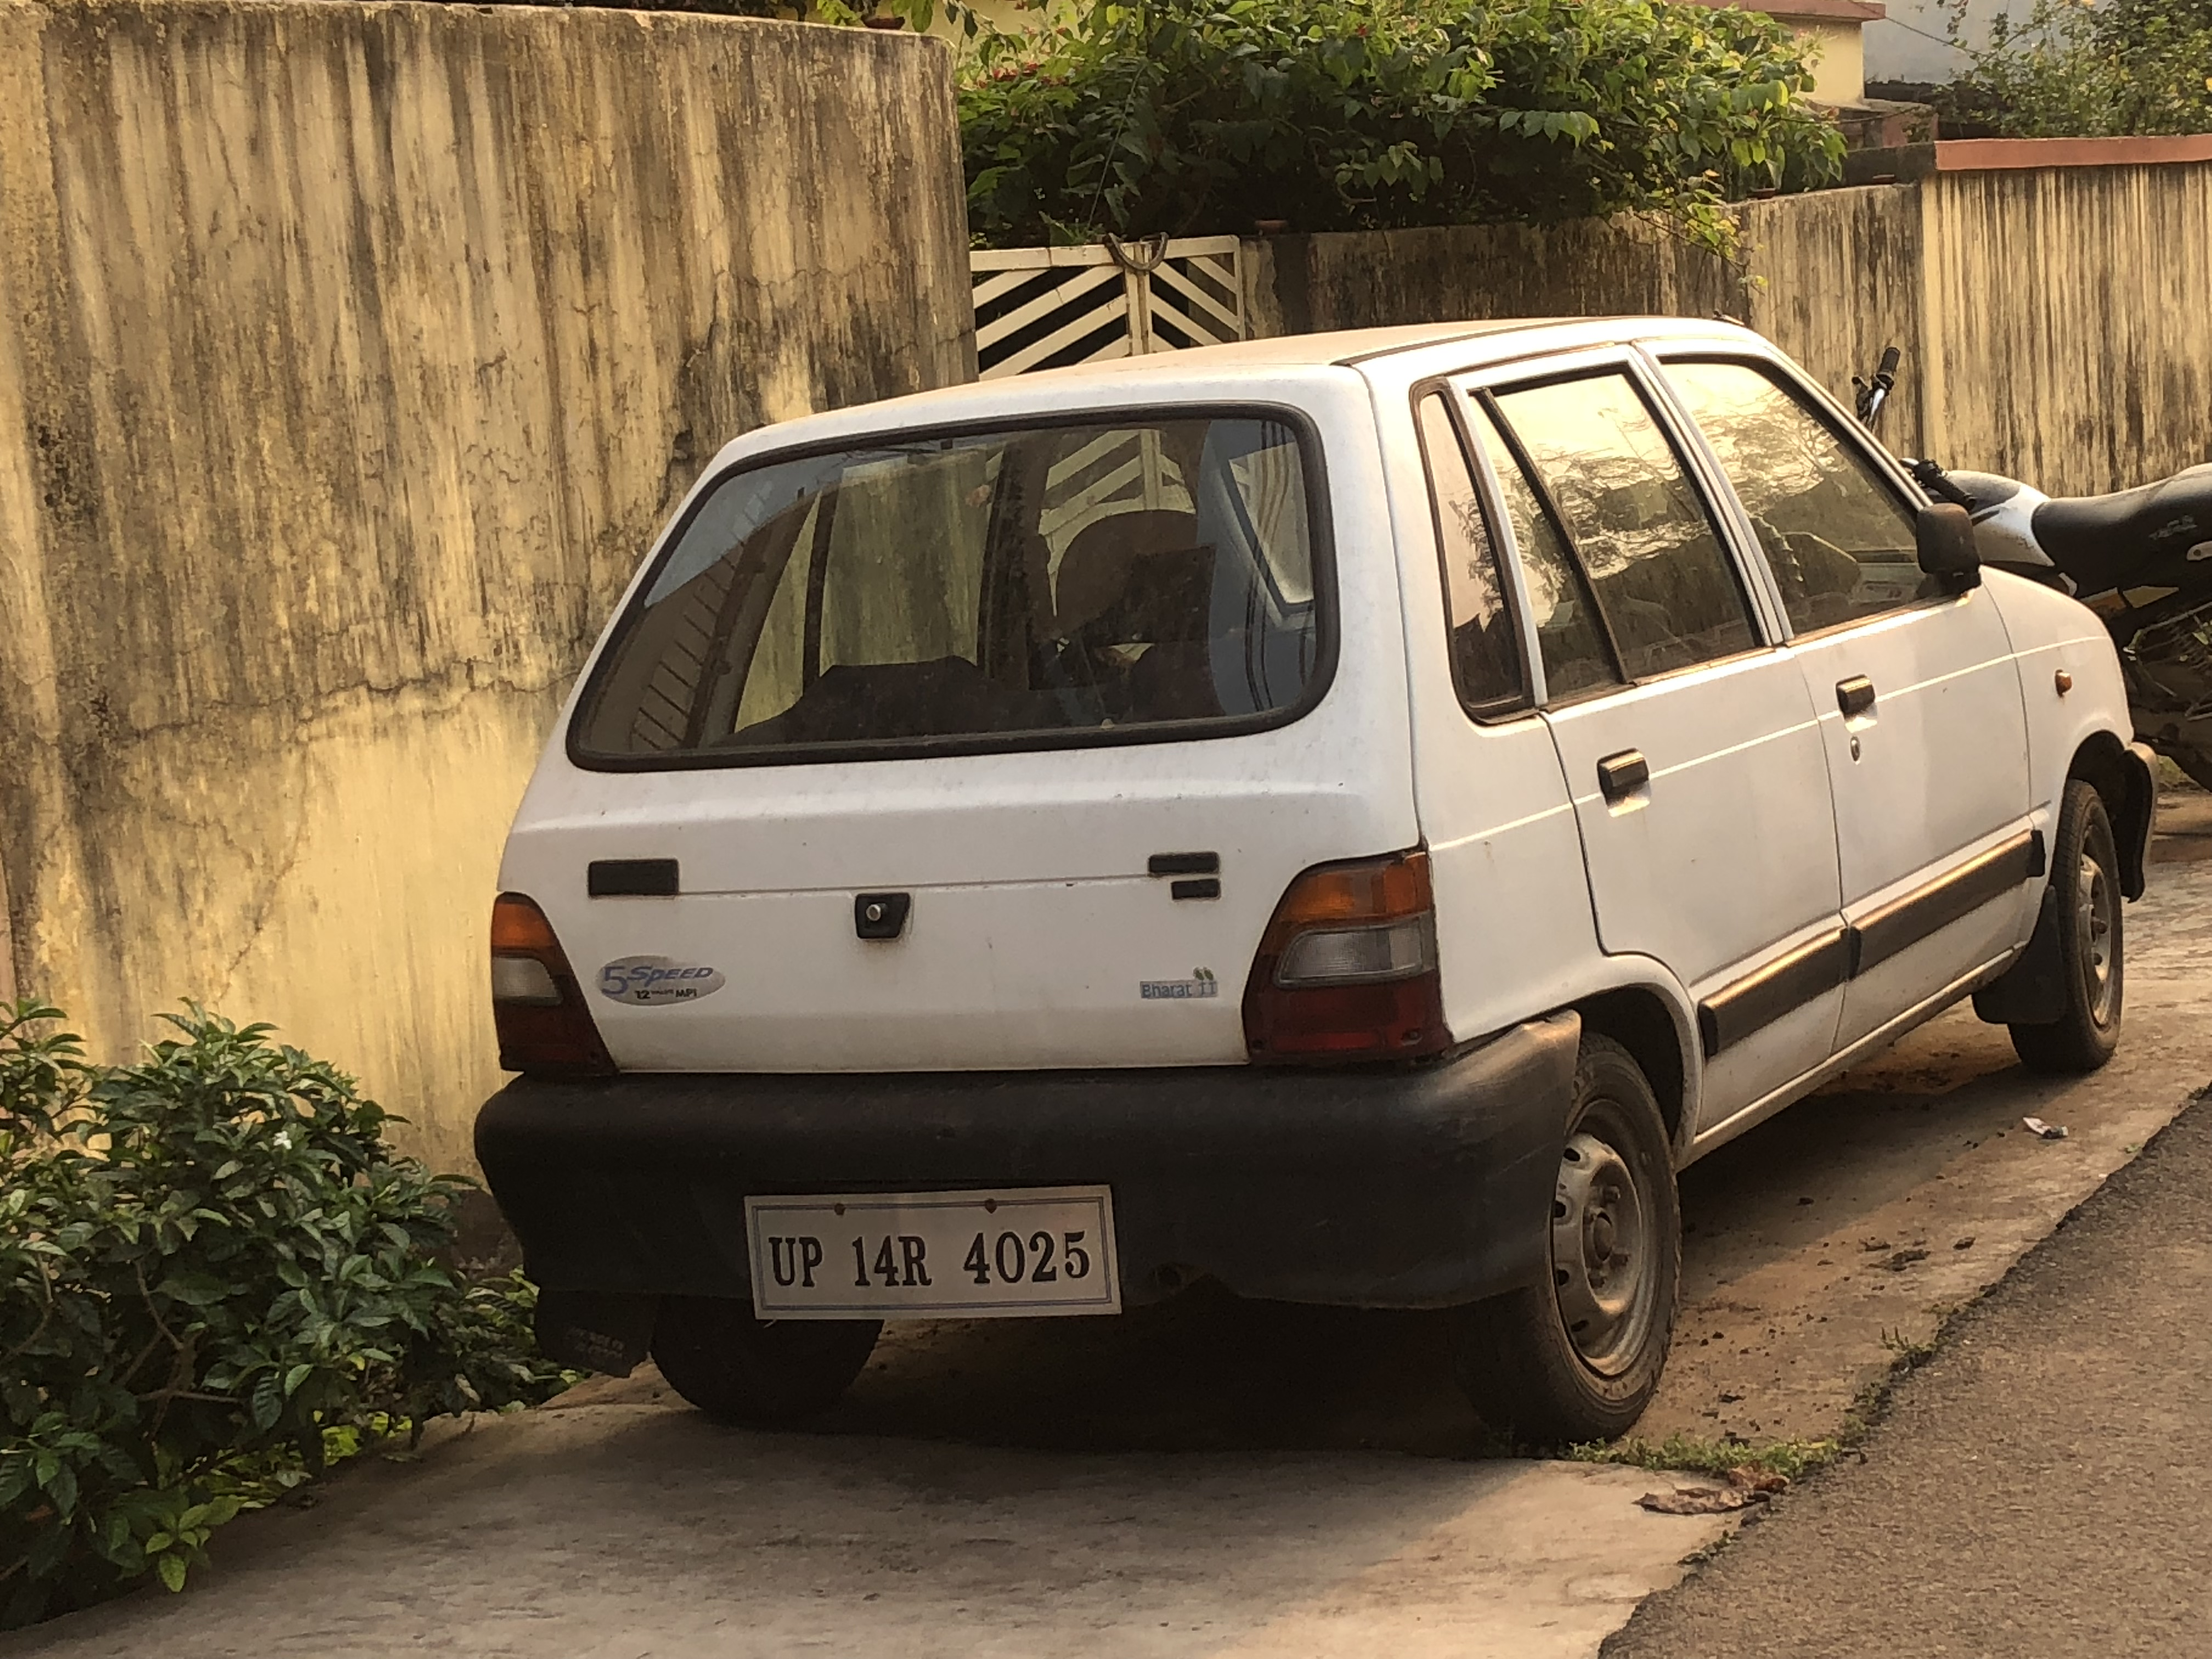licenseplate: (742, 1182, 1130, 1329)
